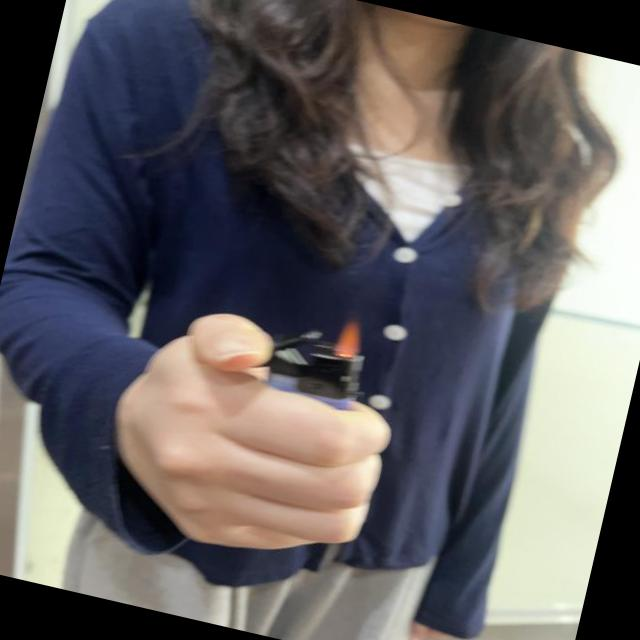Fire: (326, 314, 375, 362)
